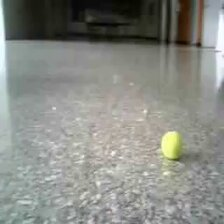tennis: (162, 131, 183, 159)
